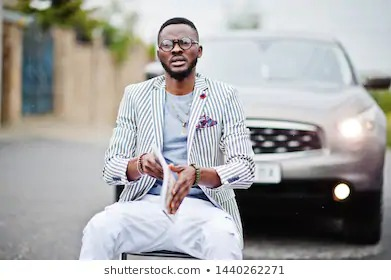F_M_suit jacket: (98, 68, 260, 236)
